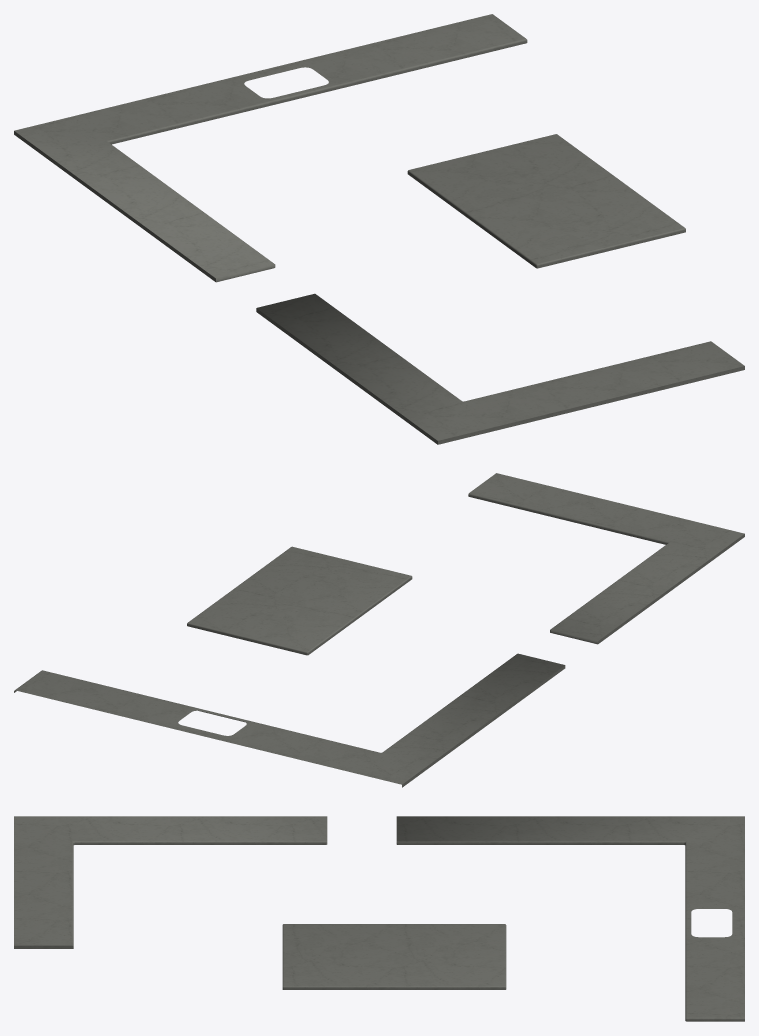
Rendered from 2345_kitchen_Countertops_QuartzExpoGray.gltf.
The picture shows the model from 3 angles, top to bottom: view 1: azimuth 30°, elevation 25°; view 2: azimuth 150°, elevation 25°; view 3: azimuth 270°, elevation 25°; orthographic projection. The views are drawn at different scales.
Visible parts, largest first — view 1: Line23257; view 2: Line23257; view 3: Line23257.
Part boxes in pixels (left/top/right/bottom): Line23257: left=14, top=14, right=744, bottom=444; Line23257: left=14, top=473, right=744, bottom=787; Line23257: left=14, top=816, right=744, bottom=1021.
Bounding box in the file's own units: 6.4 × 0.05 × 9.8.
Materials: 1 (1 with a texture image).
